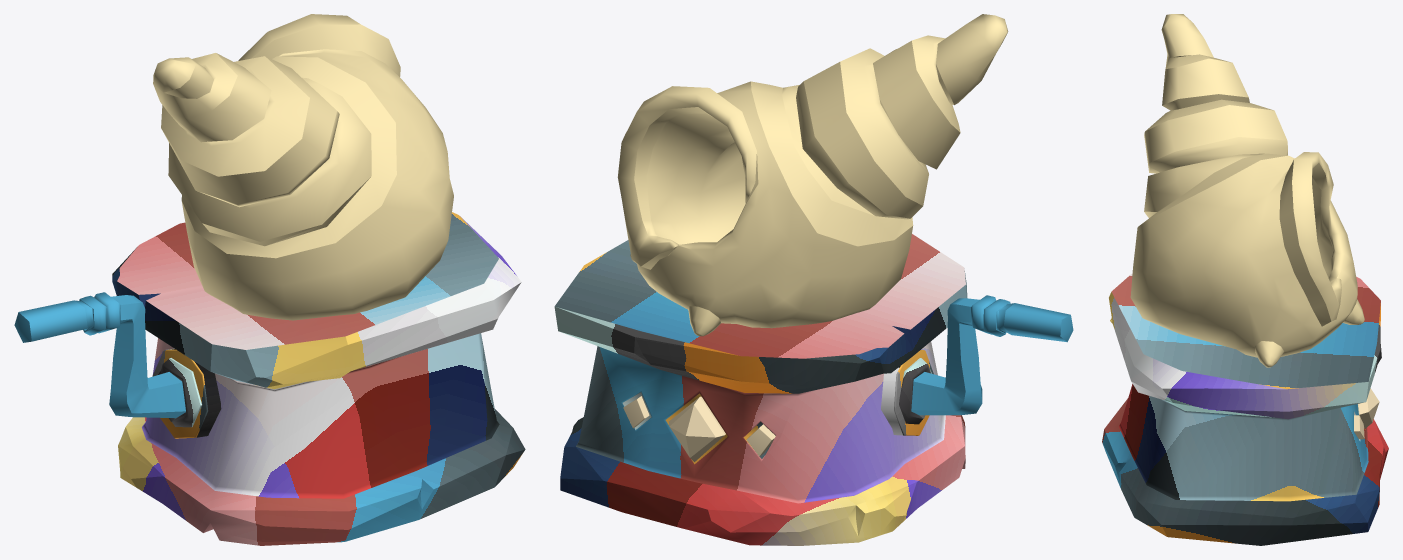
Rendered from Prop_ShellMusicBox.glb.
3 renders of one model, left to right at view 1: azimuth 30°, elevation 25°; view 2: azimuth 150°, elevation 25°; view 3: azimuth 270°, elevation 25°, orthographic. The views are drawn at different scales.
Parts seen in each view (by area): view 1: Prop_ShellMusicBox; view 2: Prop_ShellMusicBox; view 3: Prop_ShellMusicBox.
Part boxes in pixels (x1,y1,x2,y2): Prop_ShellMusicBox: [14, 14, 525, 545]; Prop_ShellMusicBox: [554, 14, 1073, 545]; Prop_ShellMusicBox: [1102, 14, 1388, 545].
Bounding box in the file's own units: 7.08 × 6.93 × 4.57.
Materials: 1 (1 with a texture image).
